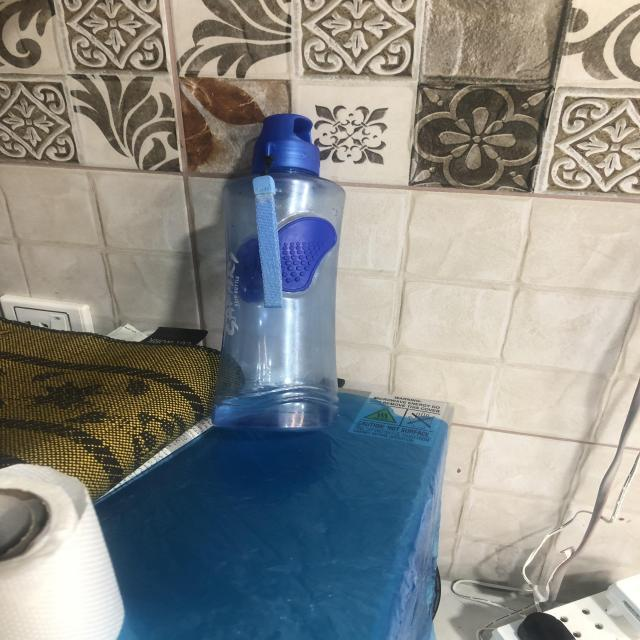gym bottle: (208, 109, 352, 444)
